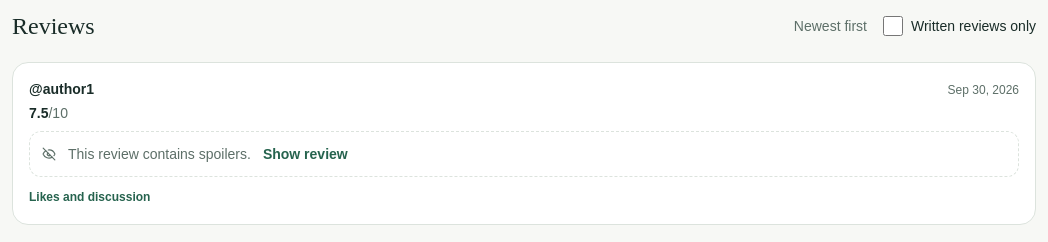
Test: <ReviewList> › keeps spoiler text out of the page until revealed, but shows the score
Expected: the text "The twist is X" is not shown
Click the button "Show review".
click(305, 154)  # box [263,144,348,164]
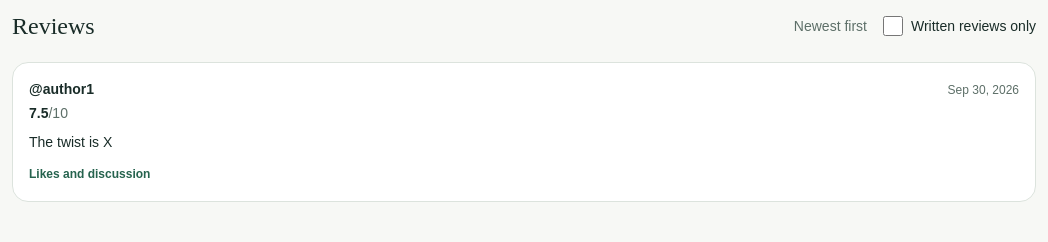
Now the text "The twist is X" is shown, box [29,134,112,150]
